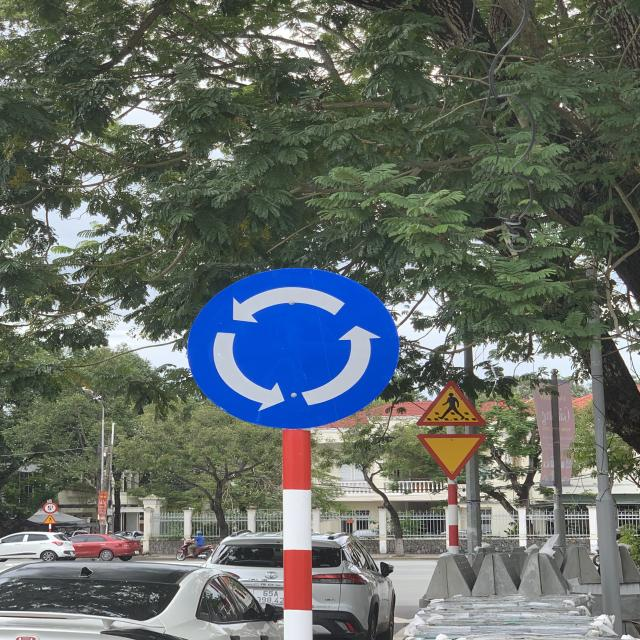Xe_Bus: (193, 264, 404, 430)
